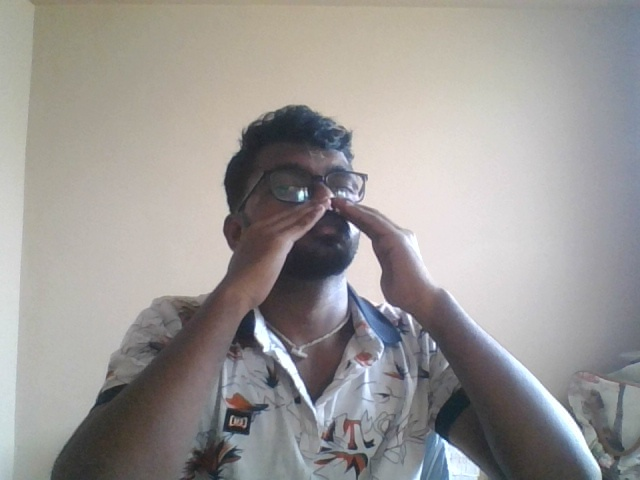Thank you: (201, 191, 441, 358)
